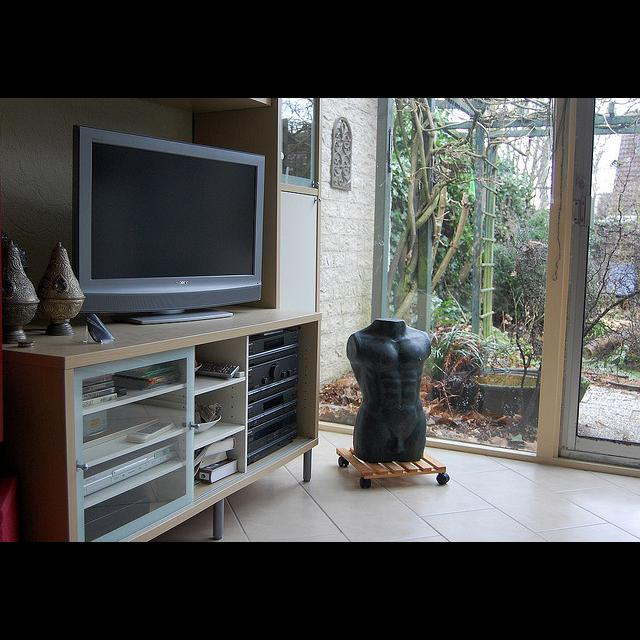Flat-Panel-TV: (76, 126, 265, 324)
TV-Remote-Control: (126, 420, 175, 443), (195, 362, 239, 378)
